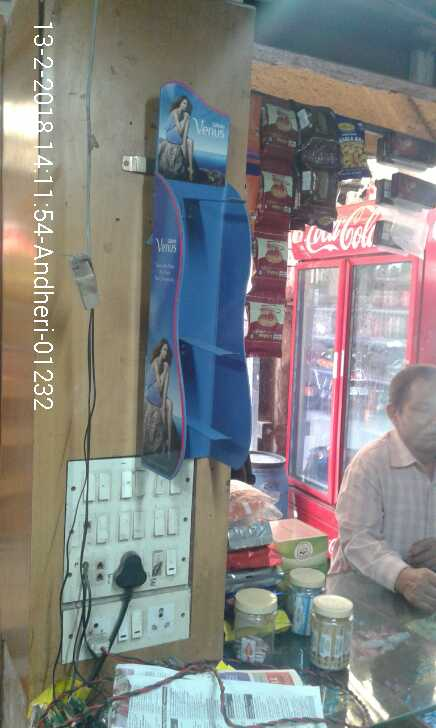reject: (162, 194, 236, 401)
